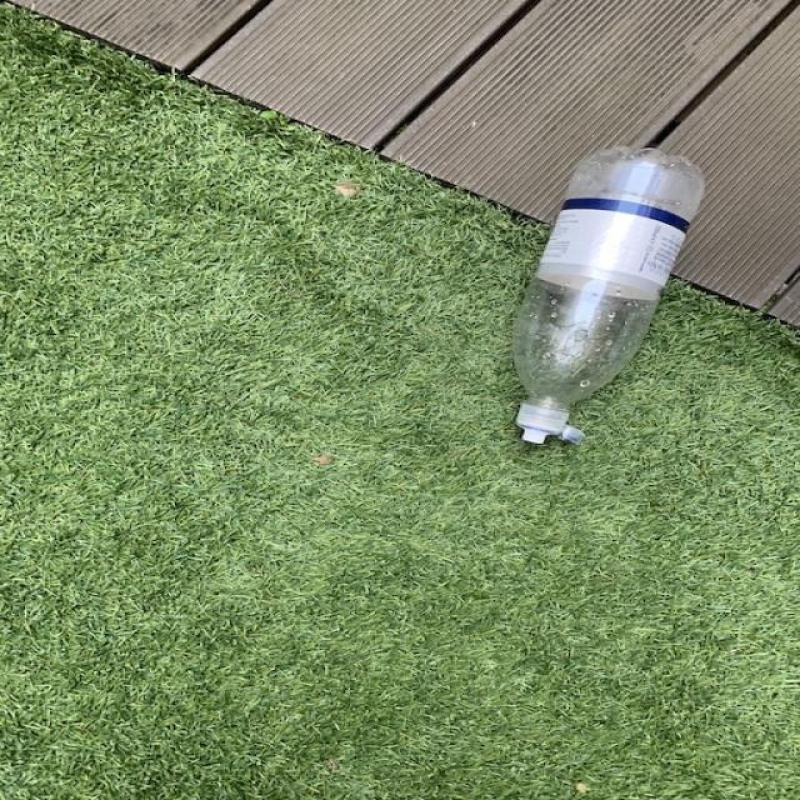botella: (513, 148, 705, 444)
